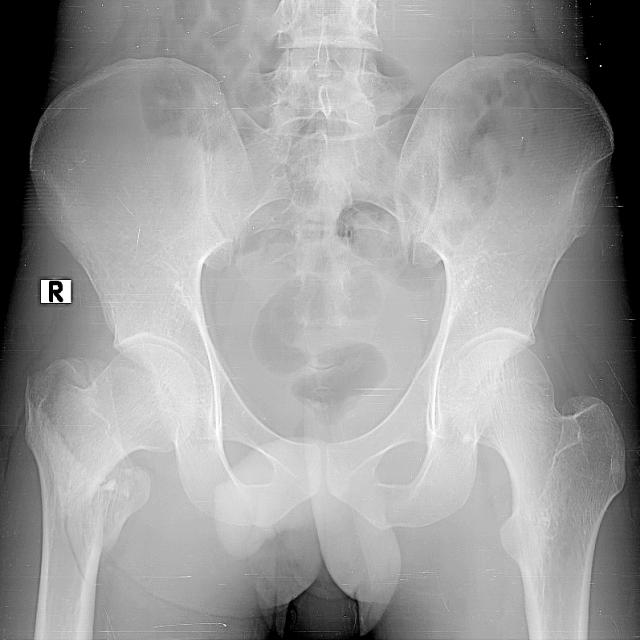normal-left: (449, 339, 627, 640)
right-intertrochanteric: (35, 342, 199, 519), (24, 378, 116, 581)
right-lesser-trochanter: (104, 457, 151, 556)
